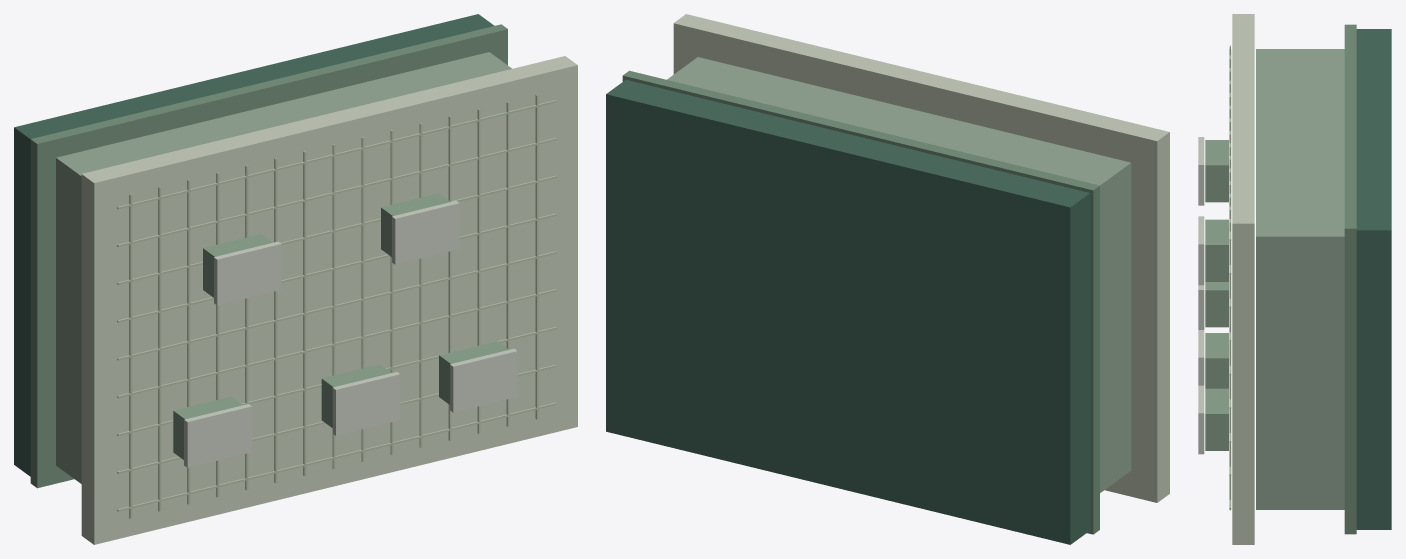
The model's file is branch.glb.
The picture shows the model from 3 angles, left to right: view 1: azimuth 30°, elevation 25°; view 2: azimuth 150°, elevation 25°; view 3: azimuth 270°, elevation 25°; orthographic projection. The views are drawn at different scales.
Parts seen in each view (by area): view 1: roof_slab_04, underside_trim_02, store_shell_03, foundation_01, roof_vent_cap_01, roof_vent_cap_02, roof_vent_cap_03, roof_vent_cap_00, roof_vent_cap_04, roof_crossline_03, roof_crossline_04, roof_crossline_08 (+26 smaller); view 2: foundation_01, roof_slab_04, store_shell_03, underside_trim_02; view 3: store_shell_03, foundation_01, roof_slab_04, underside_trim_02, roof_vent_02, roof_vent_03, roof_vent_04, roof_vent_01, roof_vent_00, roof_vent_cap_04, roof_vent_cap_02, roof_vent_cap_03 (+4 smaller).
Boxes of the visible parts, x1,y1,x2,y2 form: roof_slab_04: (81, 56, 577, 544); underside_trim_02: (30, 24, 507, 488); store_shell_03: (56, 52, 511, 483); foundation_01: (14, 14, 494, 476); roof_vent_cap_01: (332, 372, 400, 435); roof_vent_cap_02: (450, 348, 517, 412); roof_vent_cap_03: (214, 241, 281, 305); roof_vent_cap_00: (184, 404, 251, 467); roof_vent_cap_04: (392, 201, 459, 264); roof_crossline_03: (117, 289, 556, 398); roof_crossline_04: (117, 251, 556, 360); roof_crossline_08: (117, 100, 556, 209); foundation_01: (606, 80, 1090, 544); roof_slab_04: (673, 14, 1169, 502); store_shell_03: (667, 57, 1131, 492); underside_trim_02: (622, 70, 1099, 534); store_shell_03: (1256, 49, 1344, 509); foundation_01: (1356, 29, 1391, 529); roof_slab_04: (1232, 14, 1254, 544); underside_trim_02: (1344, 24, 1356, 534); roof_vent_02: (1205, 388, 1228, 450); roof_vent_03: (1205, 140, 1228, 202); roof_vent_04: (1205, 219, 1228, 281); roof_vent_01: (1205, 333, 1228, 388); roof_vent_00: (1205, 282, 1228, 327); roof_vent_cap_04: (1198, 216, 1204, 285); roof_vent_cap_02: (1198, 385, 1204, 454); roof_vent_cap_03: (1198, 137, 1204, 205).
Bounding box in the file's own units: 3.75 × 2.68 × 1.46.
